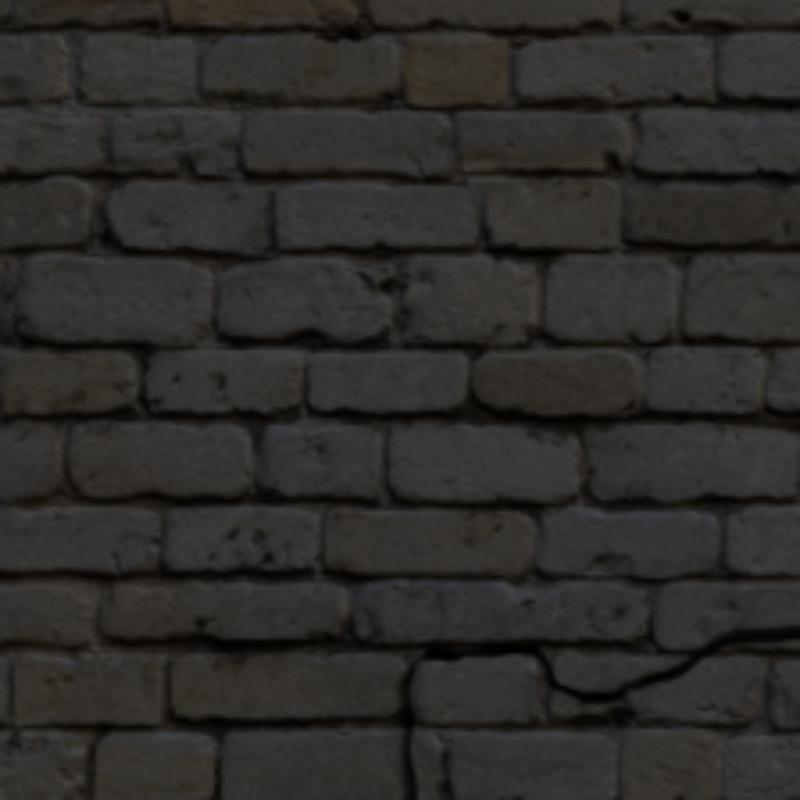pothole: (396, 625, 796, 796)
